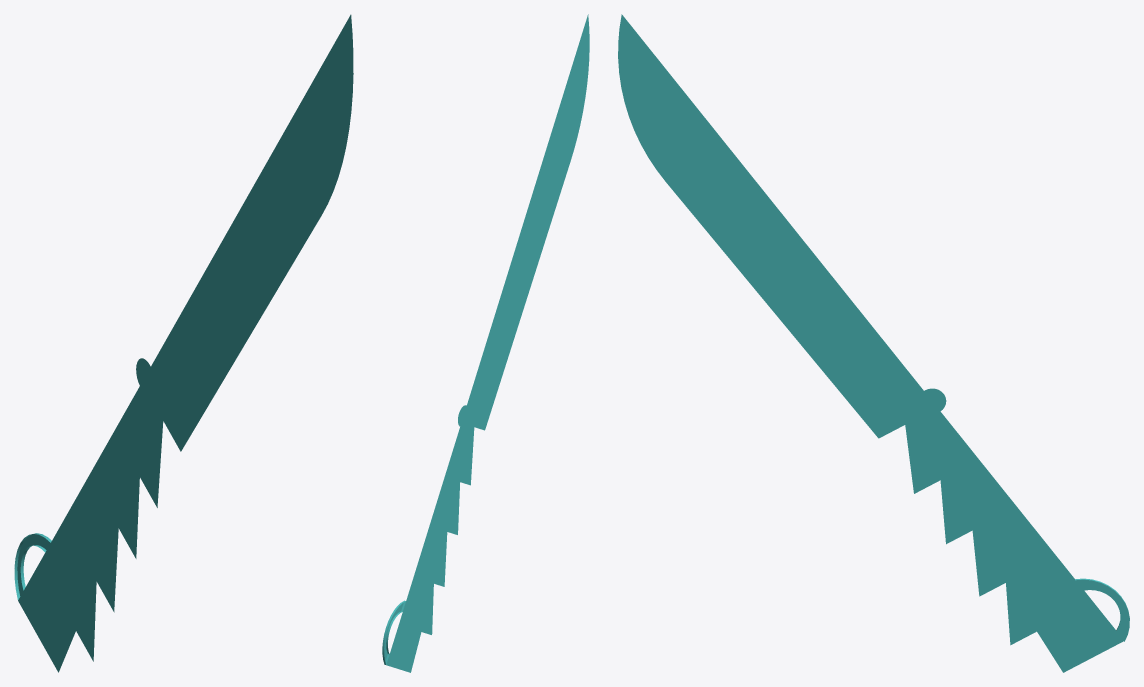
Rendered from original-13.obj.
The picture shows the model from 3 angles, left to right: view 1: azimuth 30°, elevation 25°; view 2: azimuth 150°, elevation 25°; view 3: azimuth 270°, elevation 25°; orthographic projection. The views are drawn at different scales.
Parts seen in each view (by area): view 1: Knife_Piece2/Knife_Piece/mesh2/mesh2-geometry#mesh2-geometry; view 2: Knife_Piece2/Knife_Piece/mesh2/mesh2-geometry#mesh2-geometry; view 3: Knife_Piece2/Knife_Piece/mesh2/mesh2-geometry#mesh2-geometry.
Boxes of the visible parts, x1,y1,x2,y2 form: Knife_Piece2/Knife_Piece/mesh2/mesh2-geometry#mesh2-geometry: [14, 14, 353, 672]; Knife_Piece2/Knife_Piece/mesh2/mesh2-geometry#mesh2-geometry: [382, 14, 589, 672]; Knife_Piece2/Knife_Piece/mesh2/mesh2-geometry#mesh2-geometry: [618, 14, 1129, 672].
Bounding box in the file's own units: 0.00406 × 1.14 × 0.8052.
